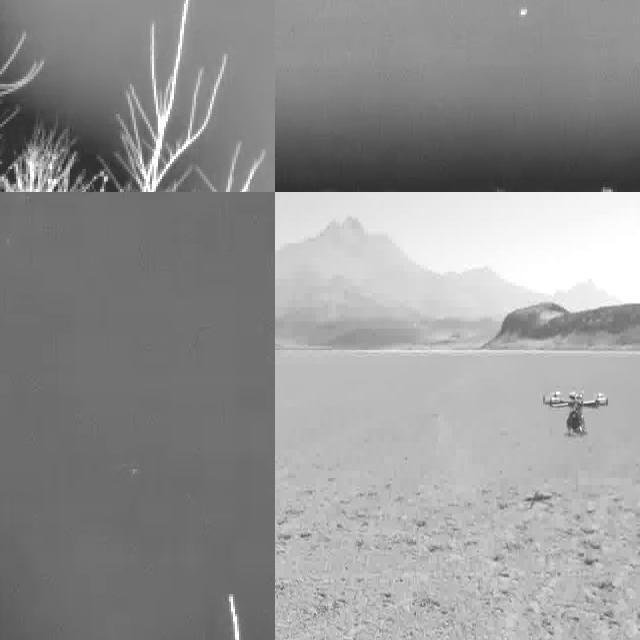0: (125, 459, 145, 487)
1: (511, 0, 543, 32)
drone: (541, 383, 611, 438)
